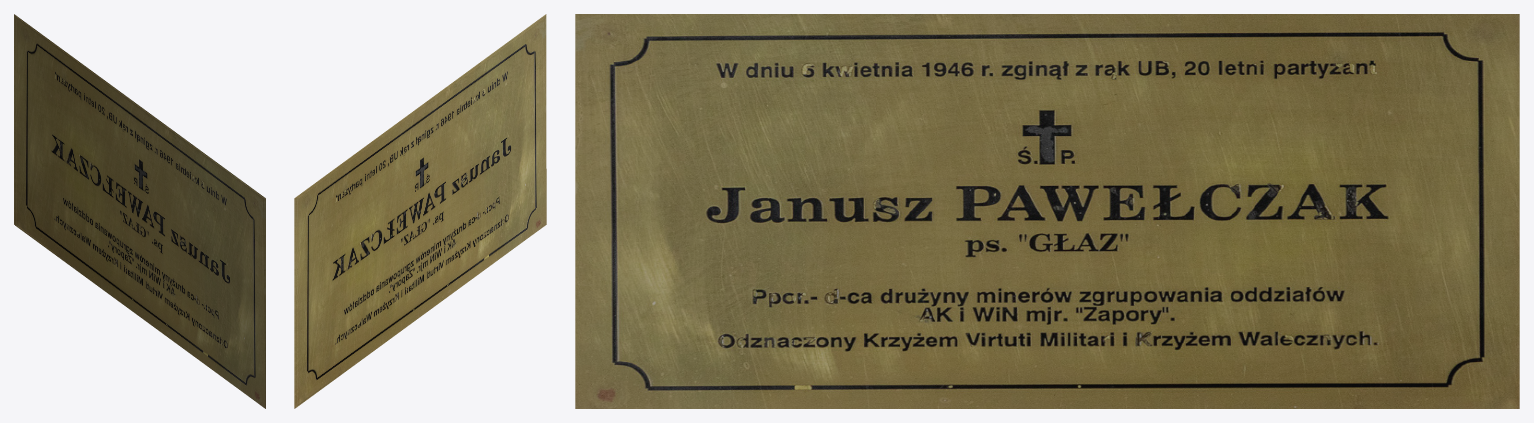
The model's file is 61. JANUSZ PAWEŁCZAK.glb.
The picture shows the model from 3 angles, left to right: view 1: azimuth 30°, elevation 25°; view 2: azimuth 150°, elevation 25°; view 3: azimuth 270°, elevation 25°; orthographic projection. The views are drawn at different scales.
Visible parts, largest first — view 1: Plane; view 2: Plane; view 3: Plane.
Boxes of the visible parts, x1,y1,x2,y2 form: Plane: [14, 14, 265, 408]; Plane: [294, 14, 546, 408]; Plane: [575, 14, 1519, 408].
Size of the model in its own units: 0.0102 by 6 by 13.
1 material, 1 textured.
